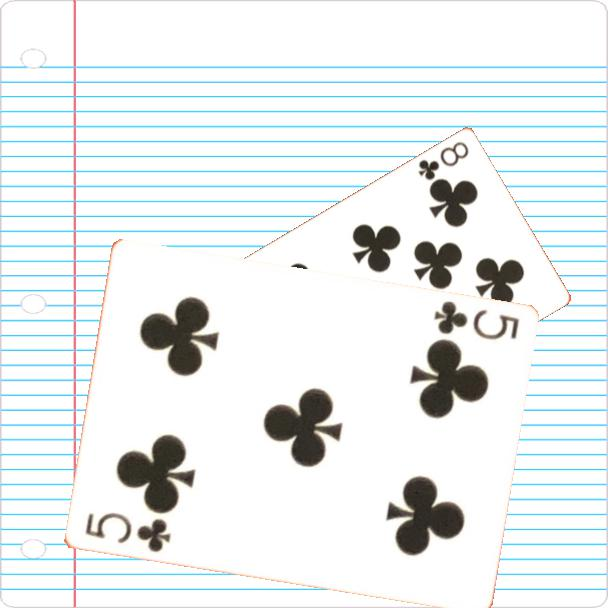c05: (81, 509, 173, 556), (430, 297, 522, 344)
c08: (414, 138, 472, 183)
